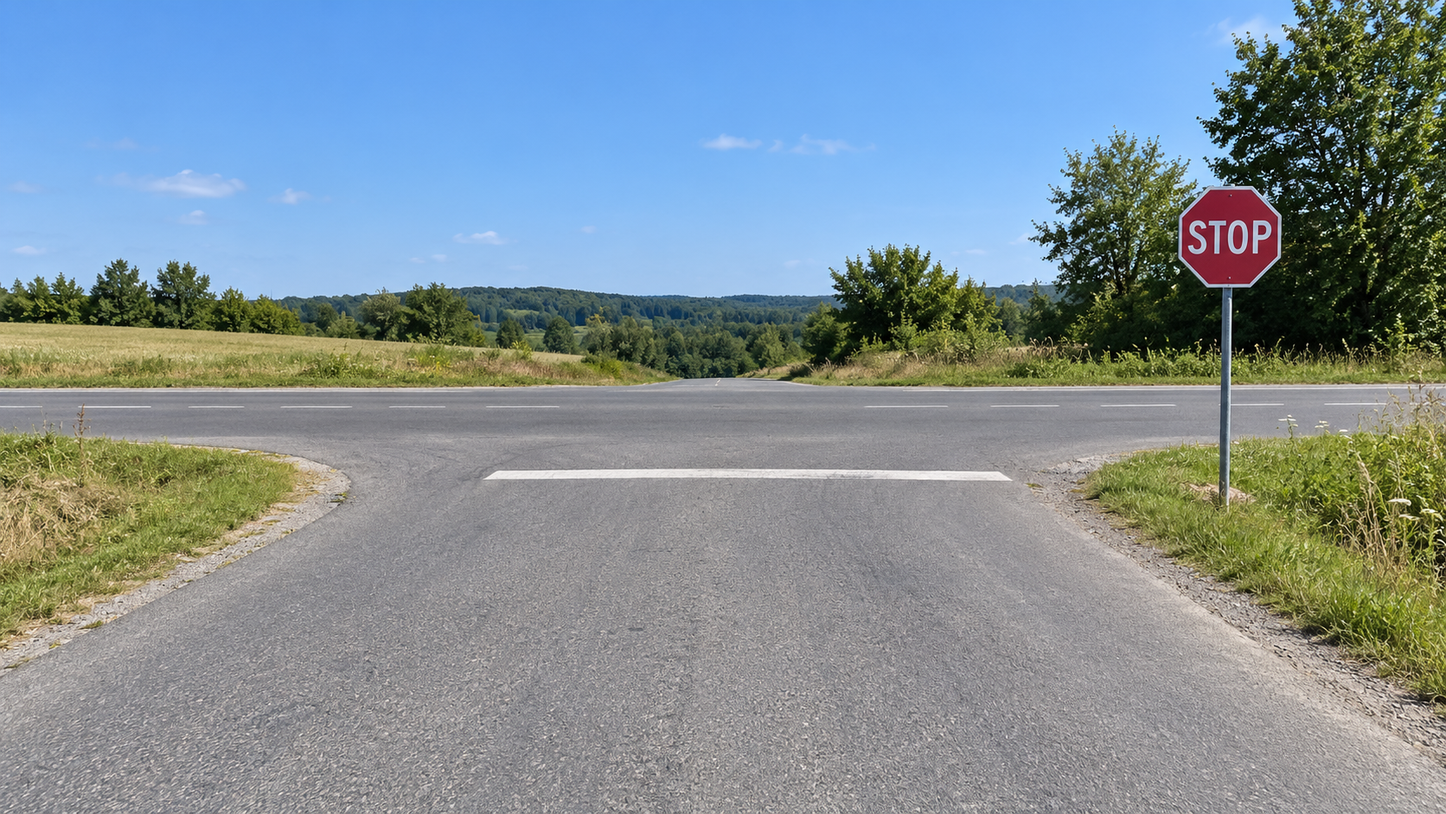stop_sign: (1178, 187, 1282, 289)
